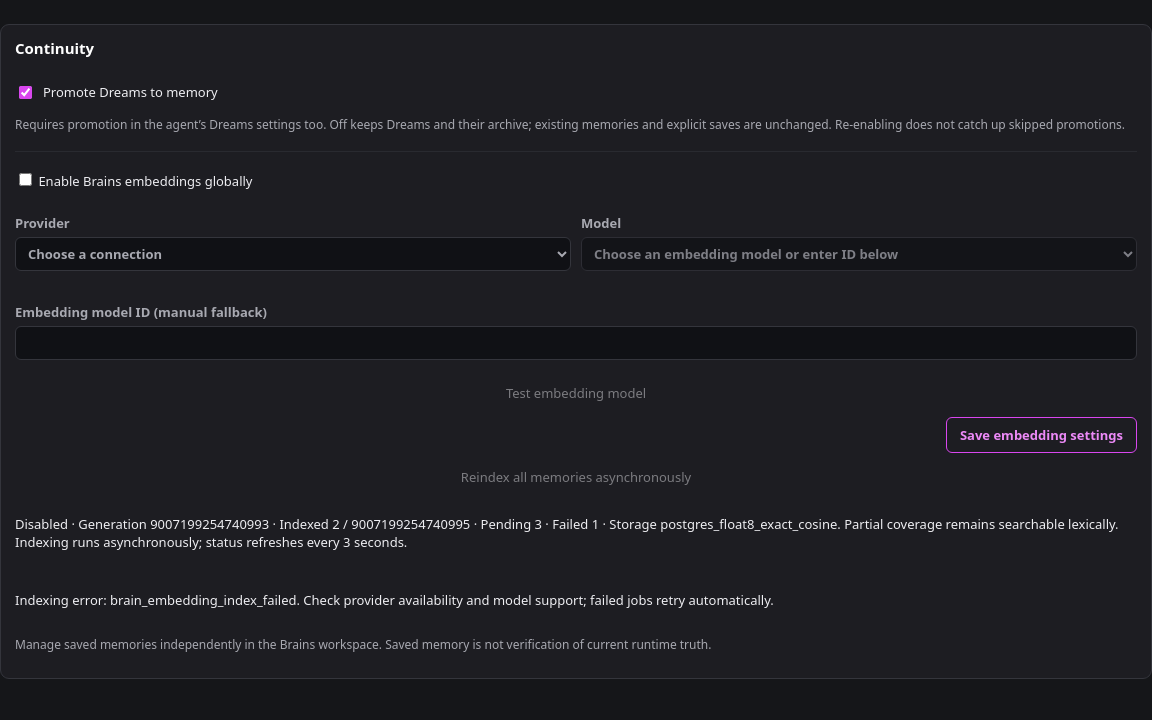
Test: Brain embedding settings › uses embedding discovery, manual fallback without acknowledgment gates
This screenshot has width=1152, height=720.
Select "a" in the dropdown labelled "Provider" at (293, 254), box [15, 237, 571, 271]
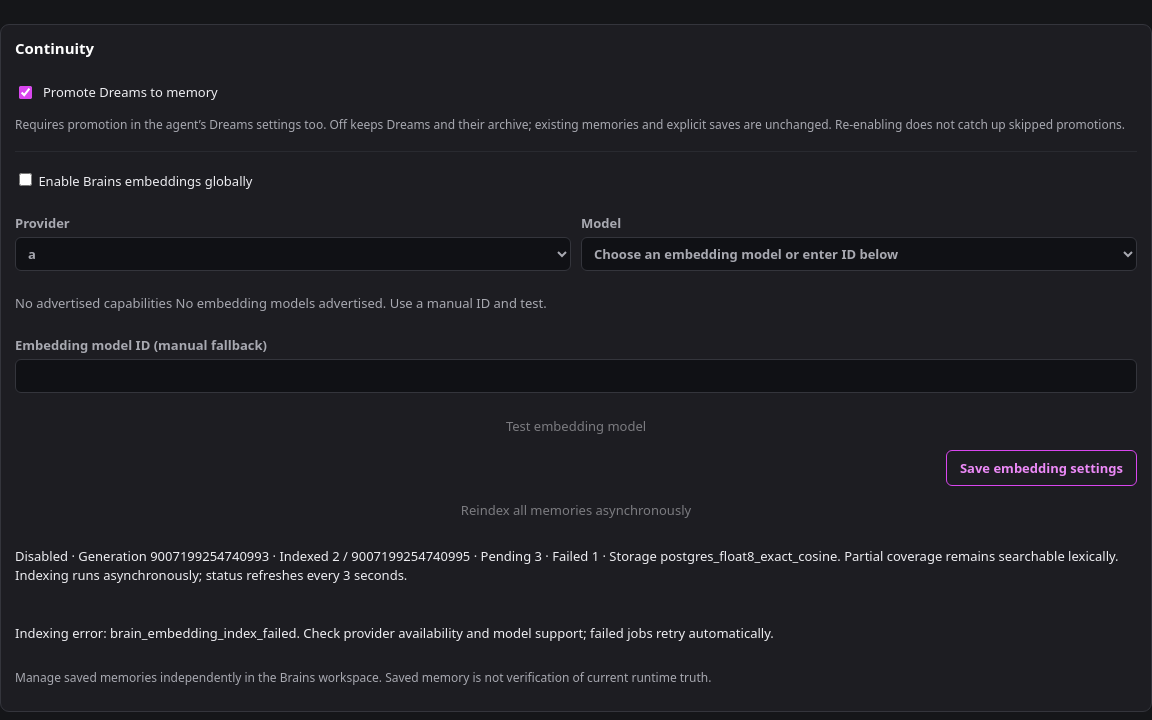
expect the text "No advertised capabilities" is shown: met, box [15, 294, 172, 312]
Type "embed-manual" into the field labelled "Embedding model ID (manual fallback)" at (576, 376), box [15, 359, 1137, 393]
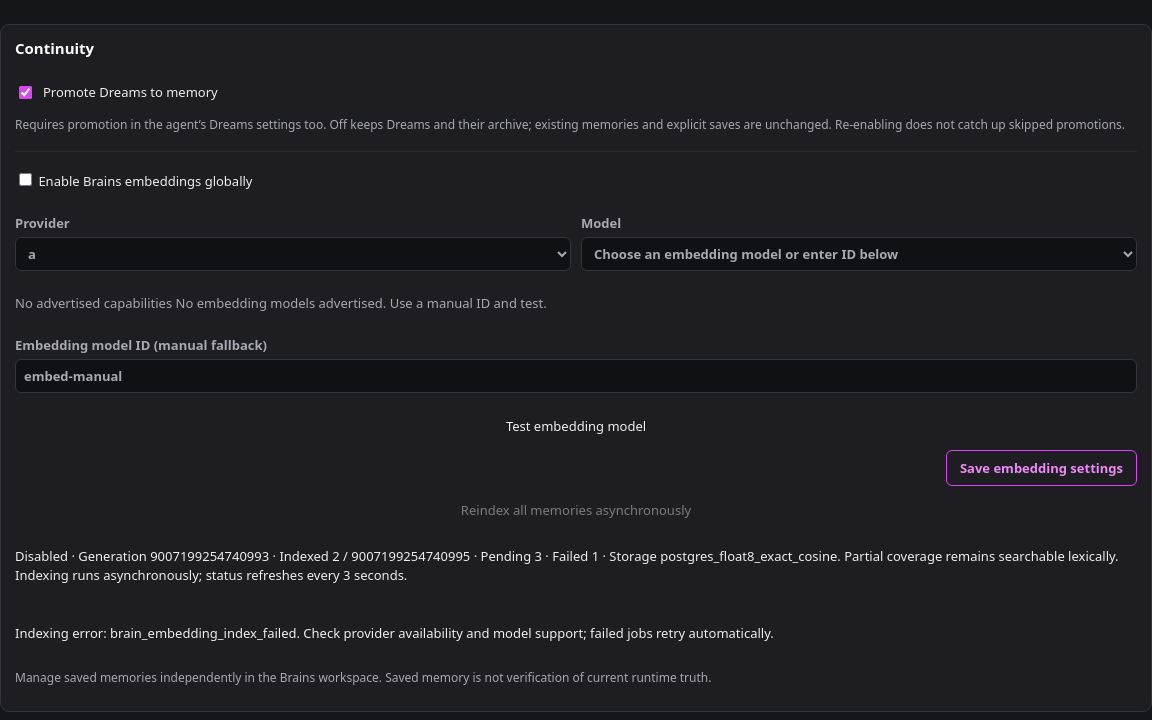
Click the checkbox labelled "Enable Brains embeddings globally" at (26, 180), box [19, 173, 32, 186]
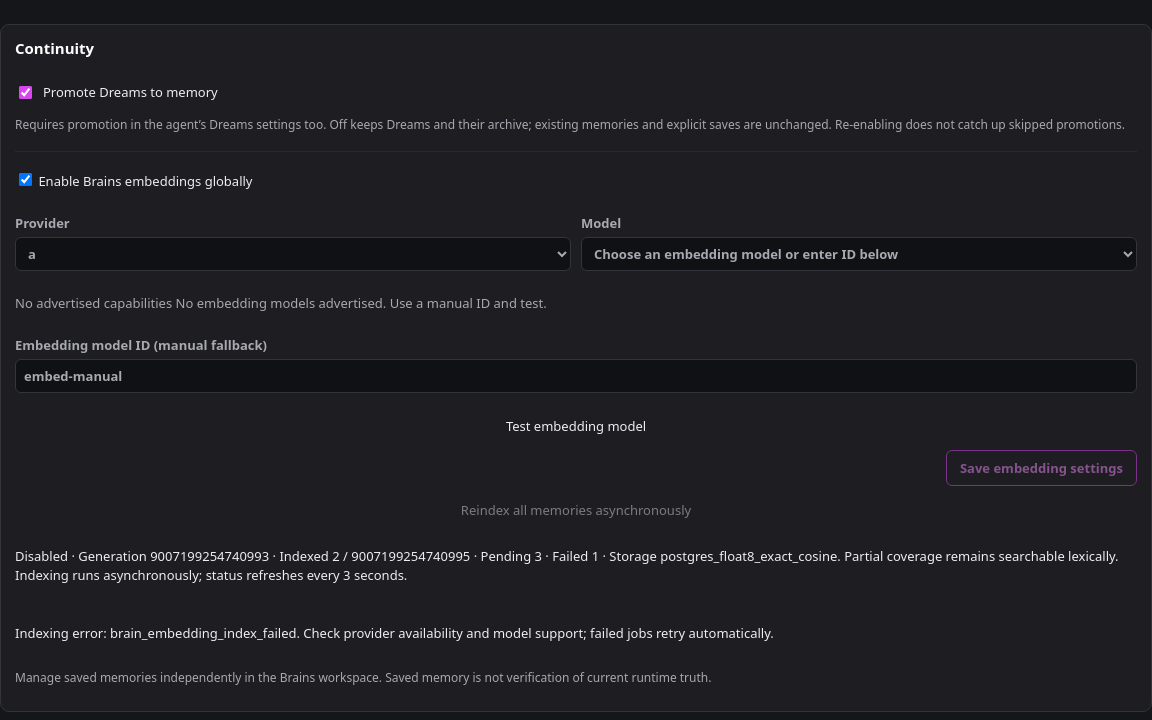
expect the button "Test embedding model" is enabled: met
expect the button "Save embedding settings" is disabled: met, box [946, 450, 1137, 486]
Click the button "Test embedding model" at (576, 426), box [15, 416, 1137, 436]
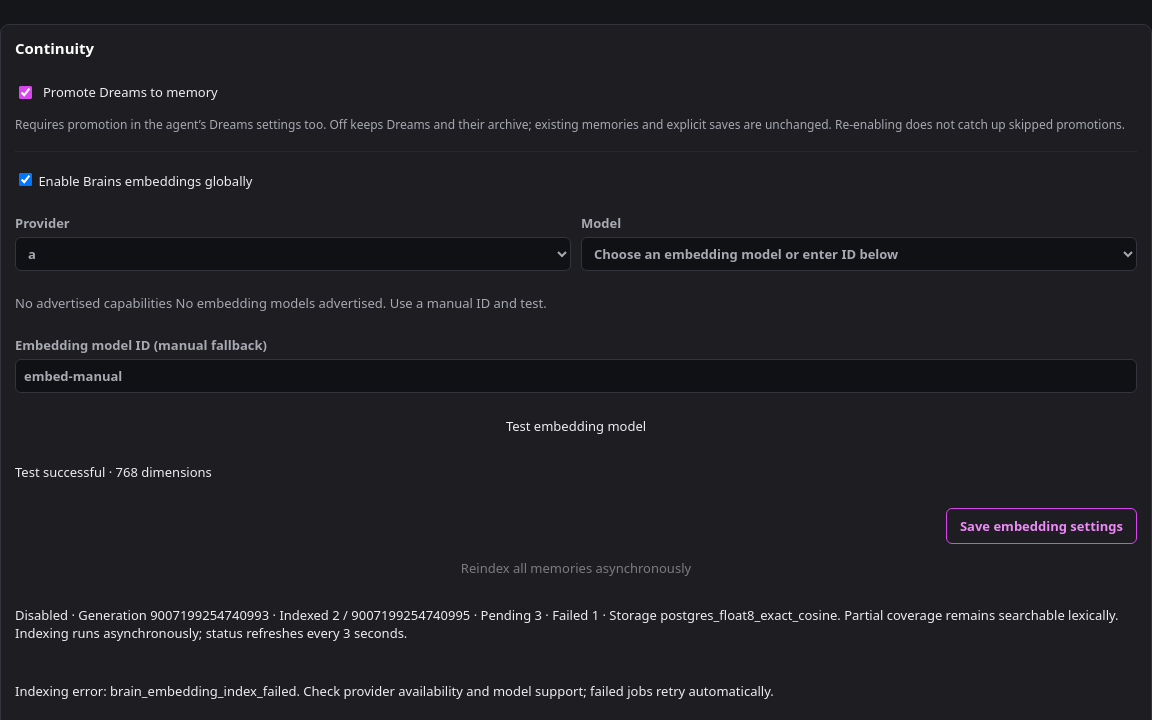
expect the text "Test successful · 768 dimensions" is shown: met, box [15, 463, 212, 481]
expect the button "Save embedding settings" is enabled: met, box [946, 508, 1137, 544]
